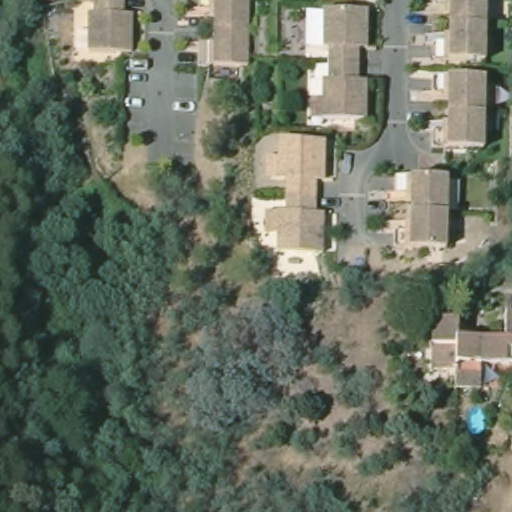pool: (466, 404, 491, 433)
